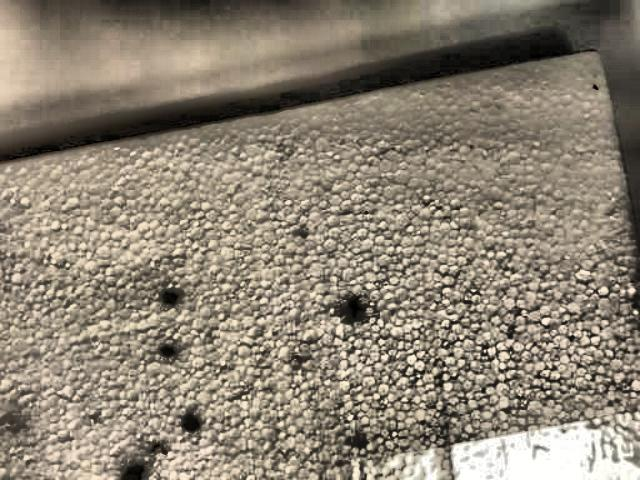Plastic: (0, 7, 640, 480)
